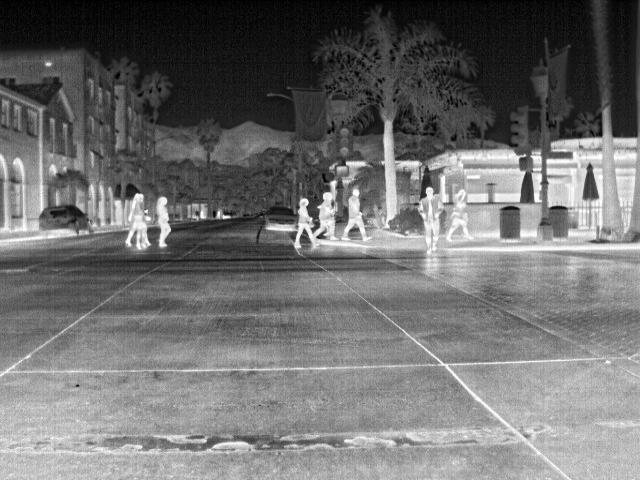car: (34, 205, 94, 239), (262, 206, 300, 232)
person: (414, 186, 448, 253), (340, 185, 373, 242), (289, 196, 318, 250), (445, 190, 471, 239), (123, 193, 145, 249), (153, 194, 173, 249), (314, 193, 335, 241)
